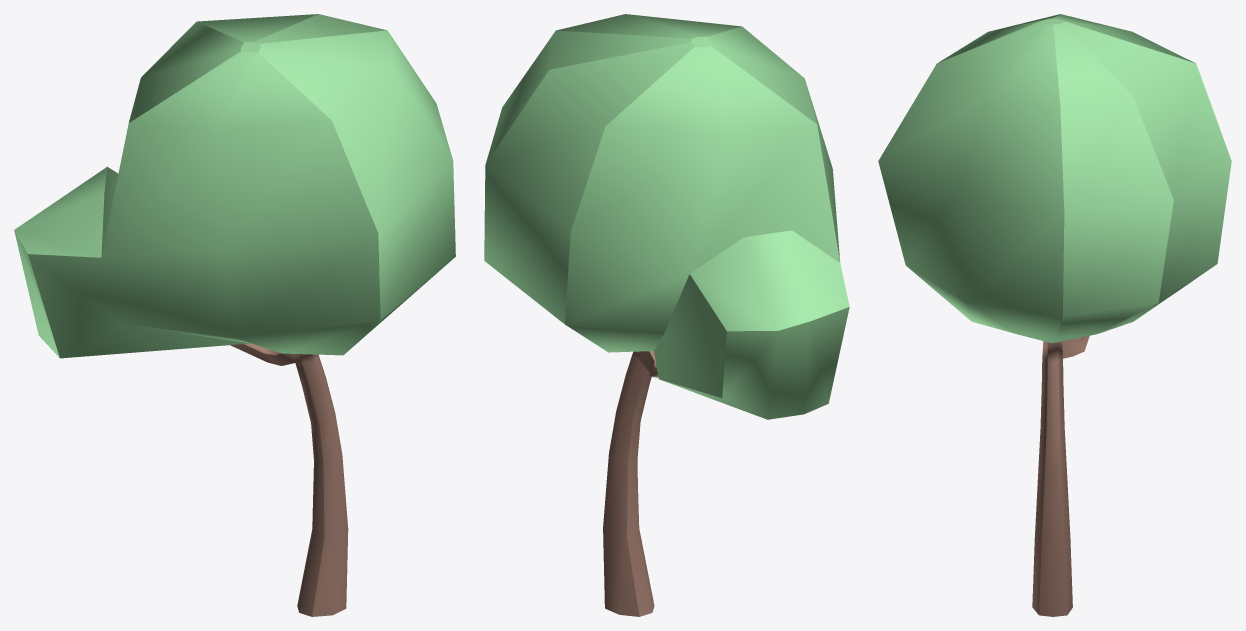
File: tree3.fbx
3 views of the same model, side by side, from view 1: azimuth 30°, elevation 25°; view 2: azimuth 150°, elevation 25°; view 3: azimuth 270°, elevation 25° (orthographic). The views are drawn at different scales.
Visible parts, largest first — view 1: tree3; view 2: tree3; view 3: tree3.
Part boxes in pixels (x1=…): tree3: x1=14, y1=14, x2=455, y2=616; tree3: x1=484, y1=14, x2=849, y2=616; tree3: x1=878, y1=14, x2=1231, y2=616.
Size of the model in its own units: 23.12 by 33.29 by 19.26.
